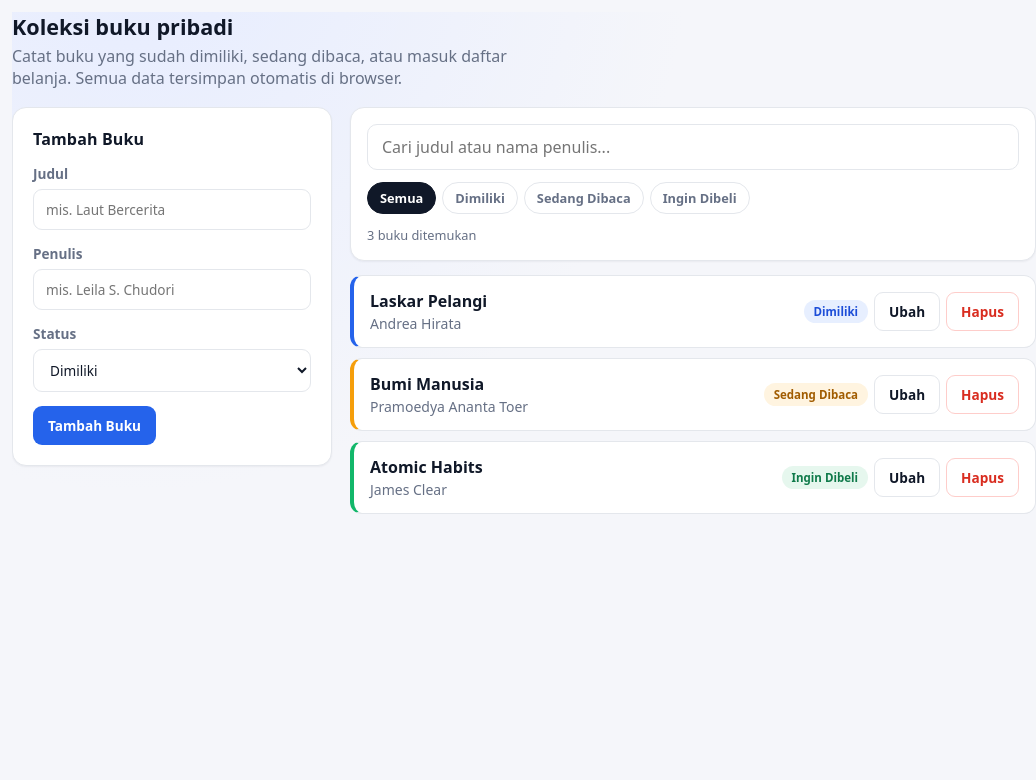
Home › menambahkan buku baru dan menyimpannya ke localStorage
In the field labelled "Judul": (172, 210) [33,189,311,230], type "Laut Bercerita"
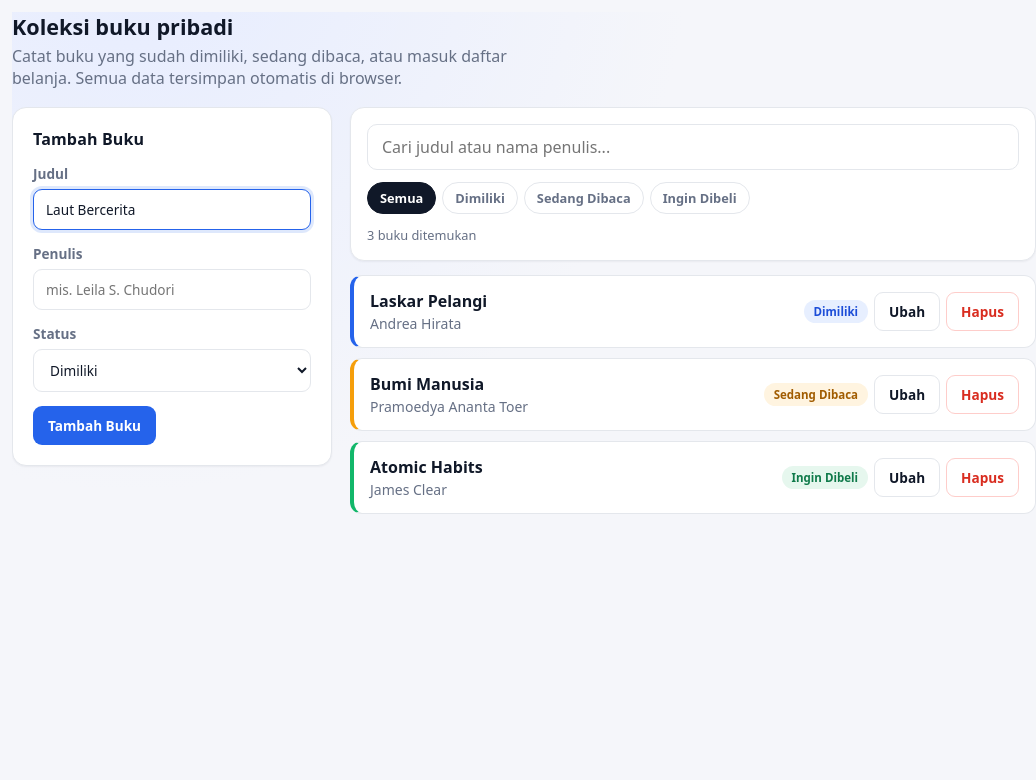
In the field labelled "Penulis": (172, 290) [33,269,311,310], type "Leila S. Chudori"
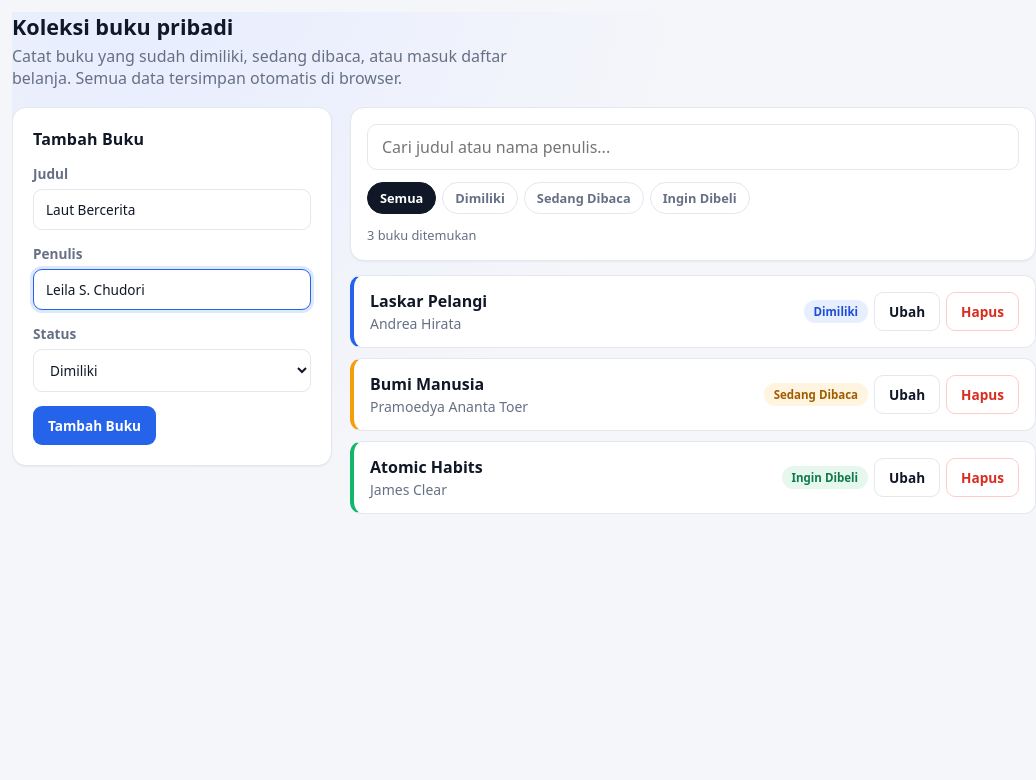
Select "Ingin Dibeli" in the dropdown labelled "Status": (172, 370) [33,349,311,392]
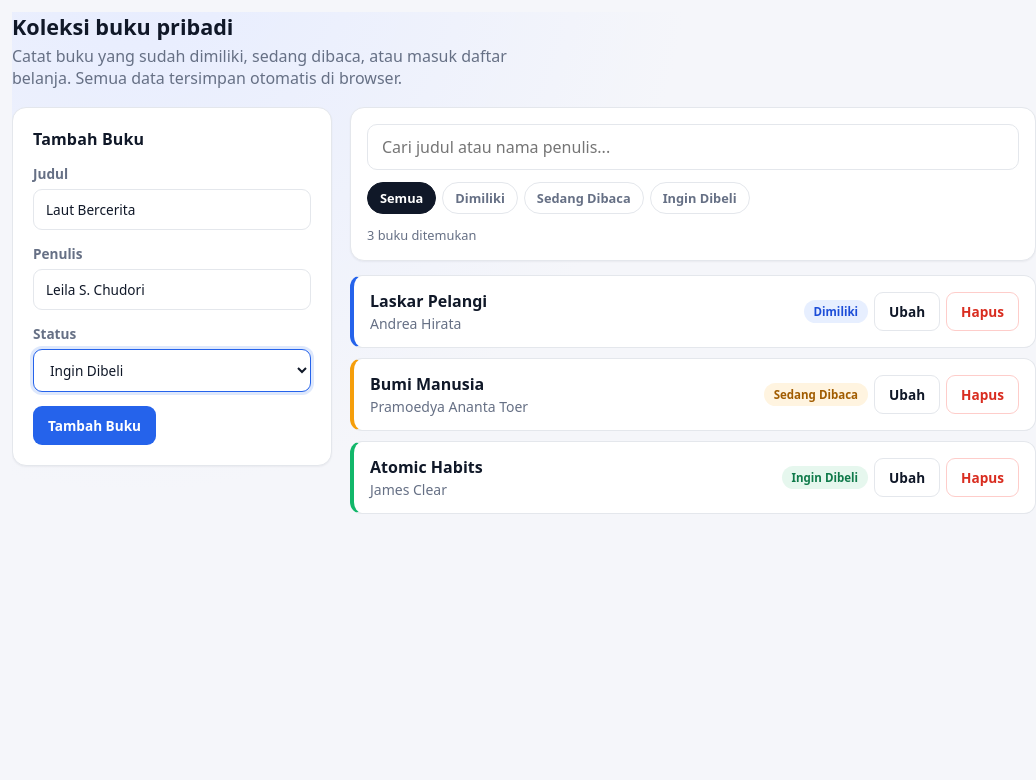
Click the button "Tambah Buku": click(95, 426) [33,406,156,445]
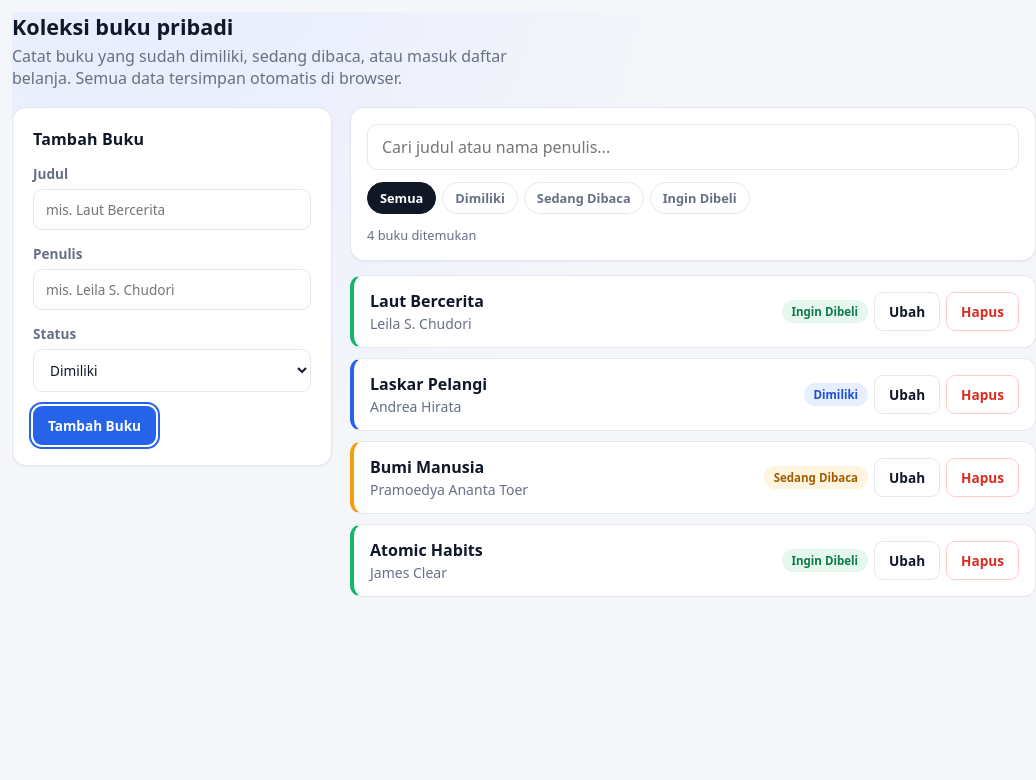
Expected: the heading "Laut Bercerita" is shown, [370,290,484,312]
